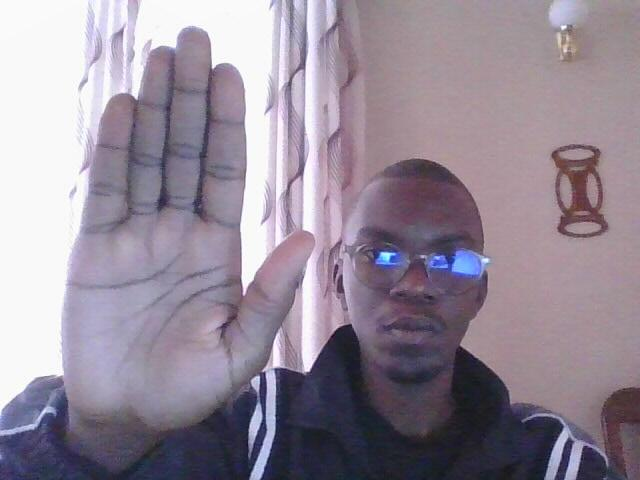paper: (59, 24, 319, 436), (59, 26, 318, 437)
